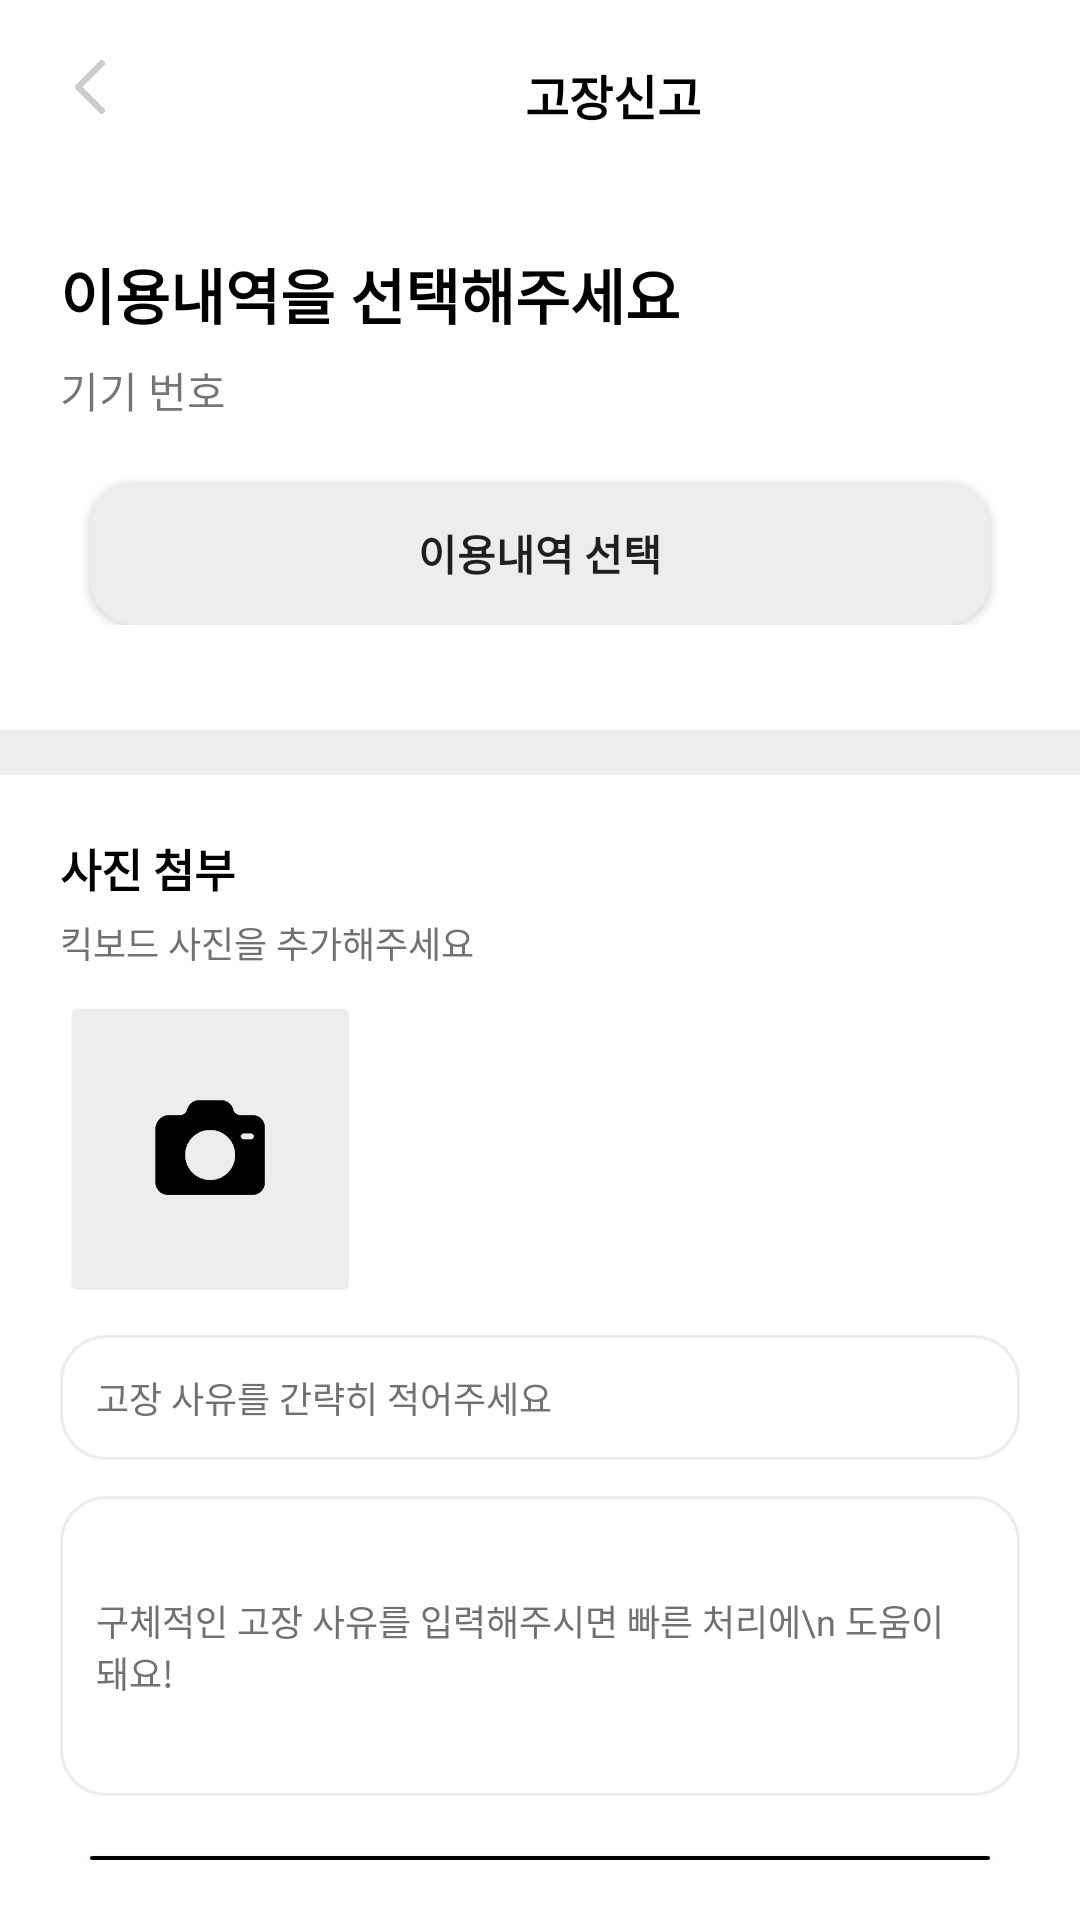

Where to tap for icons on this 1080×1920 app screen, as (x,y):
backward: (90,87)
camera: (210,1147)
